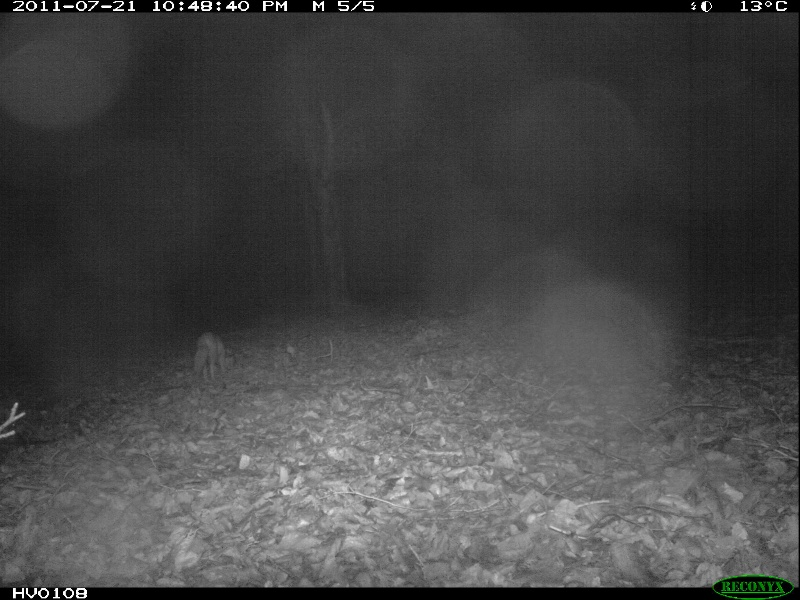fox: (186, 331, 233, 389)
